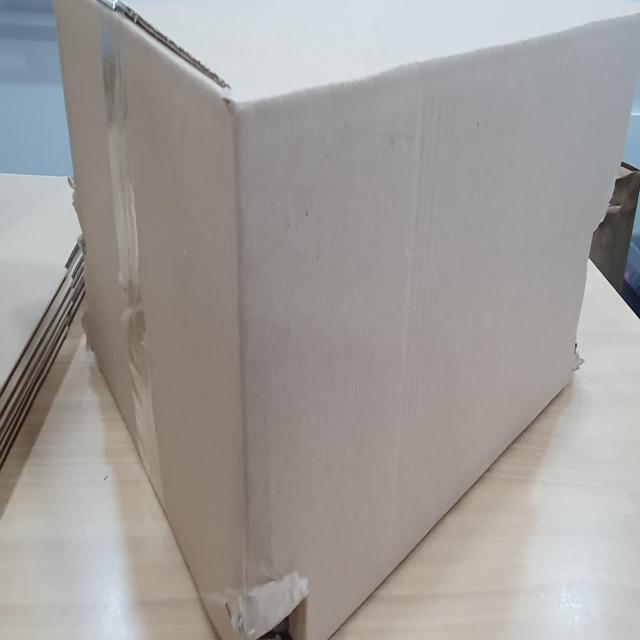damaged: (229, 582, 308, 640)
